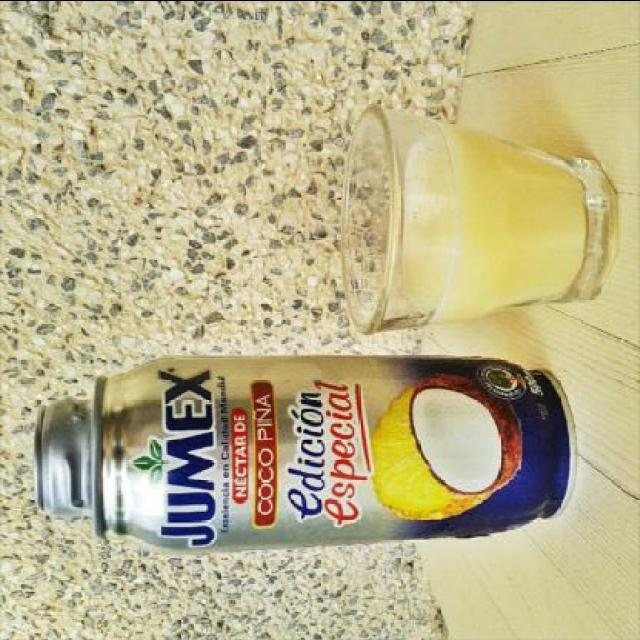Coconut: (370, 372, 521, 520)
